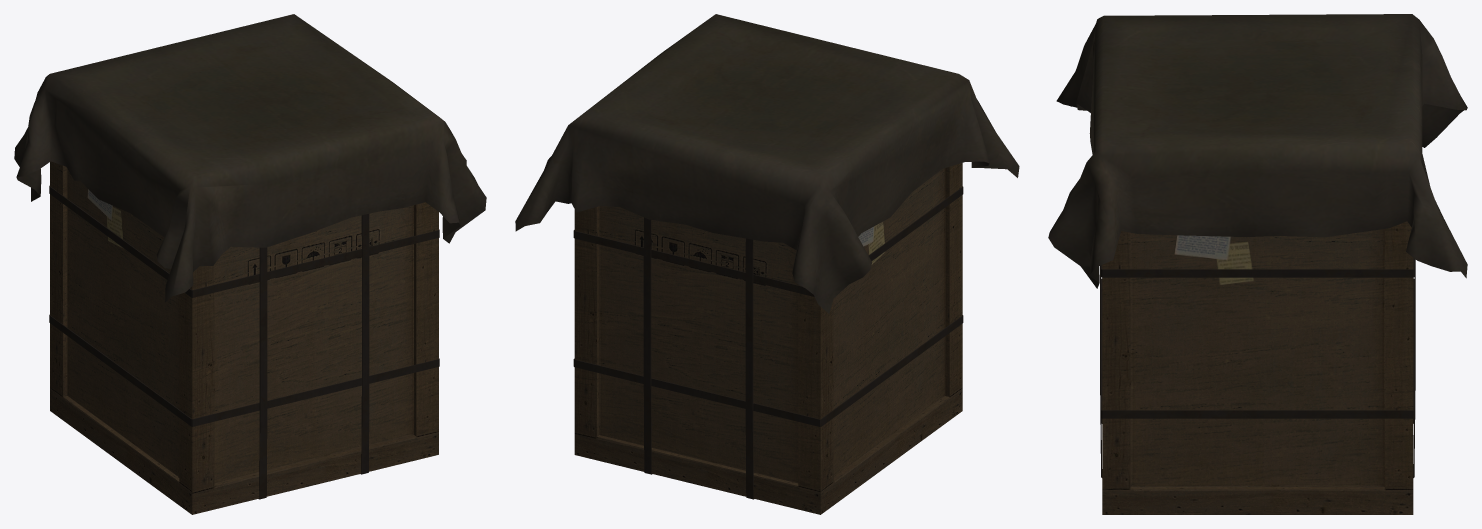
The model's file is wooden_crate_hx_1_2.dae.
The picture shows the model from 3 angles, left to right: view 1: azimuth 30°, elevation 25°; view 2: azimuth 150°, elevation 25°; view 3: azimuth 270°, elevation 25°; orthographic projection. The views are drawn at different scales.
Parts seen in each view (by area): view 1: wooden_crate_hx_1_2; view 2: wooden_crate_hx_1_2; view 3: wooden_crate_hx_1_2.
Boxes of the visible parts, <box> form: wooden_crate_hx_1_2: <box>14,14,486,514</box>; wooden_crate_hx_1_2: <box>515,14,1019,514</box>; wooden_crate_hx_1_2: <box>1048,14,1467,514</box>.
Bounding box in the file's own units: 1.89 × 1.89 × 1.84.
Materials: 3 (3 with a texture image).
